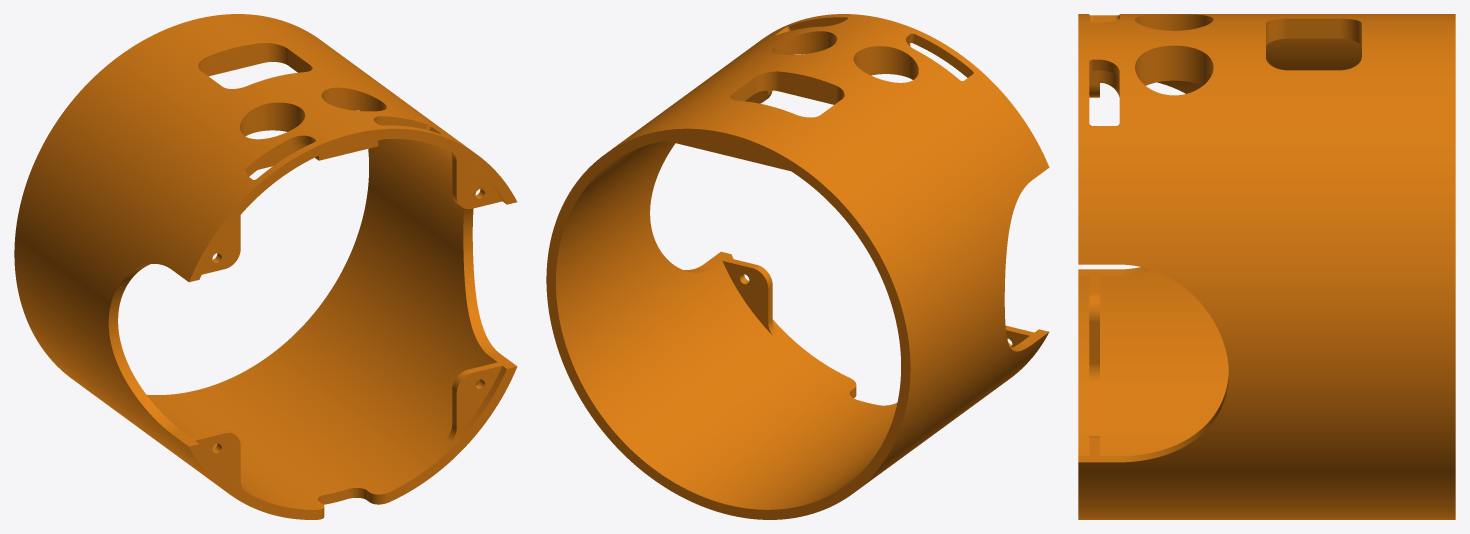
Rendered from Carcaza.obj.
3 views of the same model, side by side, from view 1: azimuth 30°, elevation 25°; view 2: azimuth 150°, elevation 25°; view 3: azimuth 270°, elevation 25° (orthographic). The views are drawn at different scales.
Parts seen in each view (by area): view 1: Sólido1; view 2: Sólido1; view 3: Sólido1.
Part boxes in pixels (x1,y1,x2,y2): Sólido1: (14,14,517,519); Sólido1: (546,14,1049,519); Sólido1: (1078,14,1455,519).
Bounding box in the file's own units: 116 × 116 × 86.5.
